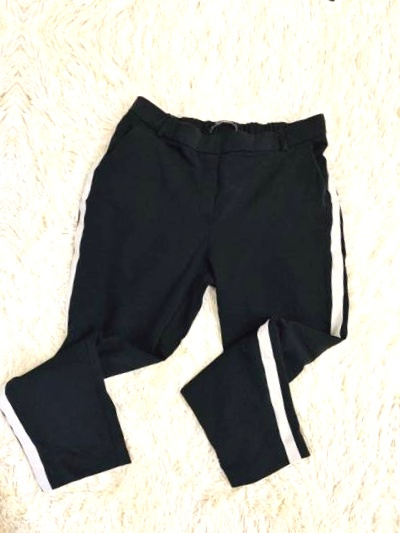Pants: (0, 72, 381, 514), (43, 0, 400, 21), (0, 36, 0, 478)
